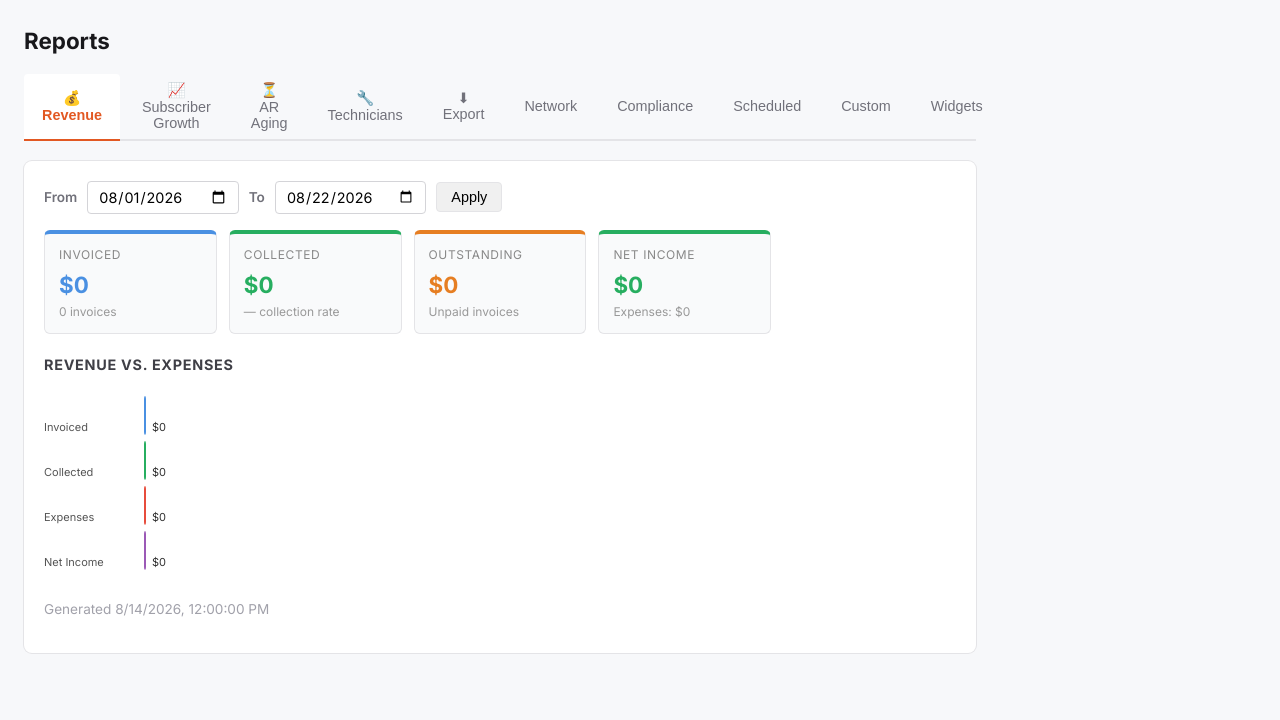
it: Reports compliance tab — operational connection logging › uses the nested connection-logging state, localized badges, and operator disclaimer
Click the button "Compliance".
click(655, 106)  # box [599, 74, 711, 139]
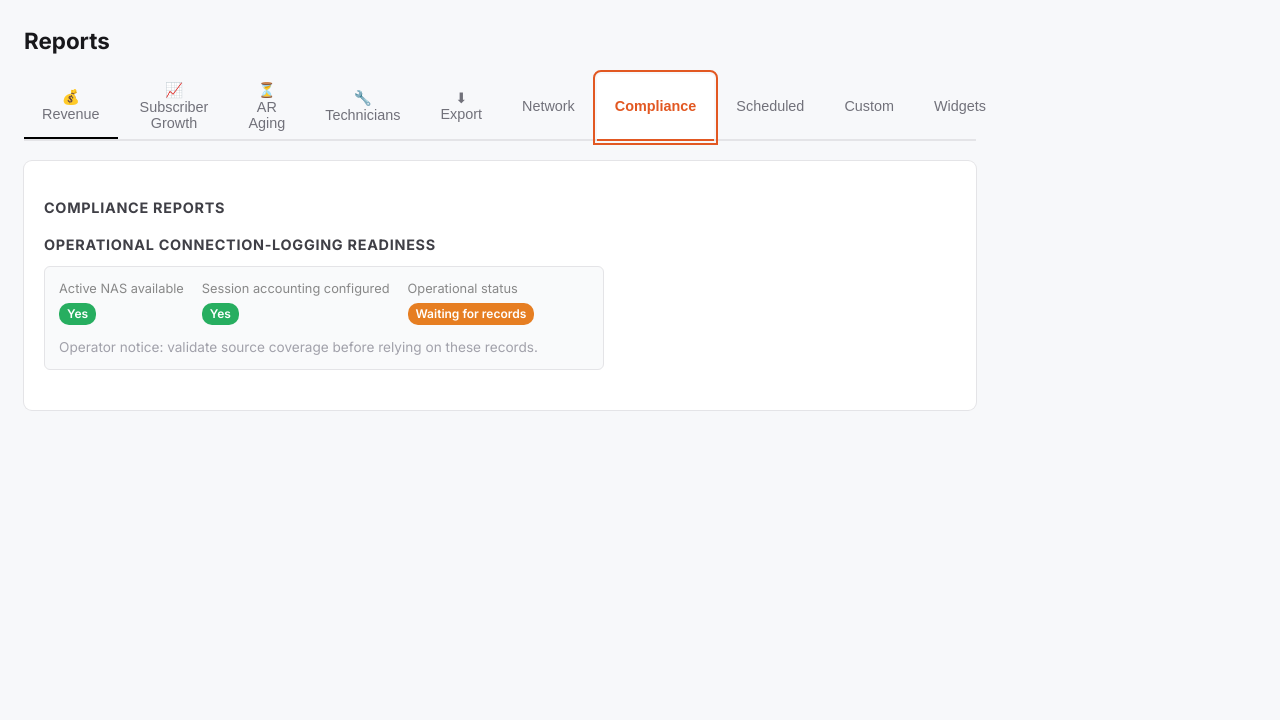
Result: the heading "Operational Connection-Logging Readiness" is shown at [44, 236, 436, 253]
Result: the text named "Active NAS available" reads "Yes" at [67, 306, 88, 321]
Result: the text named "Session accounting configured" reads "Yes" at [210, 306, 231, 321]
